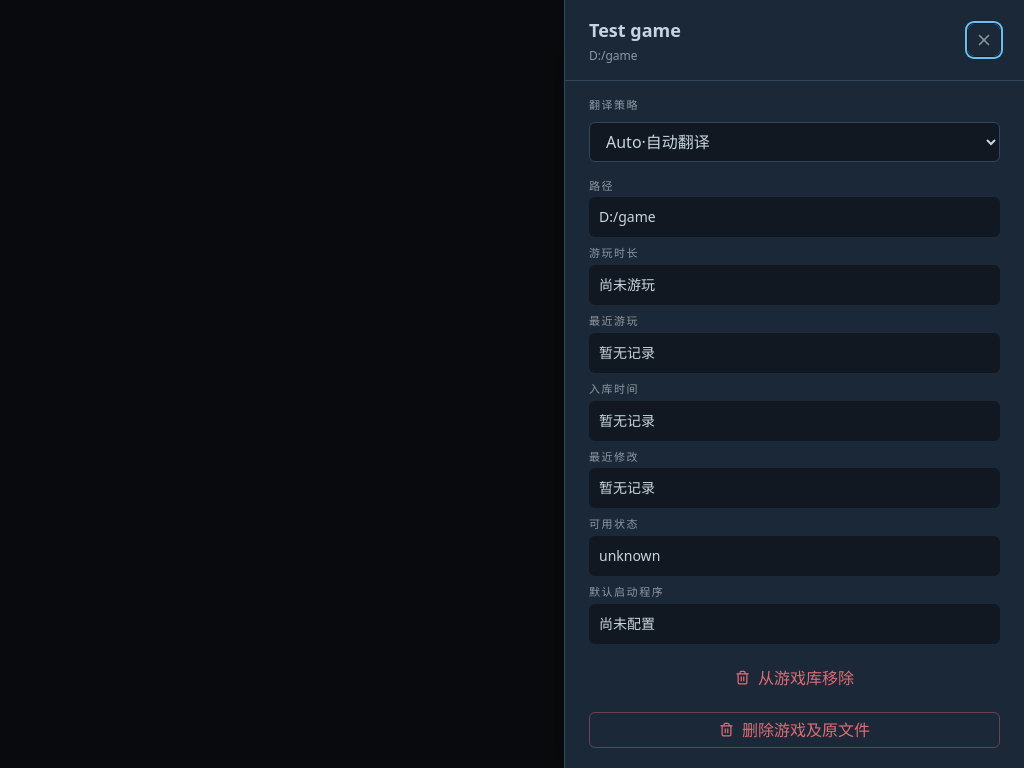
Scenario: does not offer an unverified EXE-only deletion when the Host has no removal plan
The image size is (1024, 768).
(page scrolled)
Step 1. Click the button "删除游戏及原文件" → (794, 730), box [589,712,1000,748]
(page scrolled)
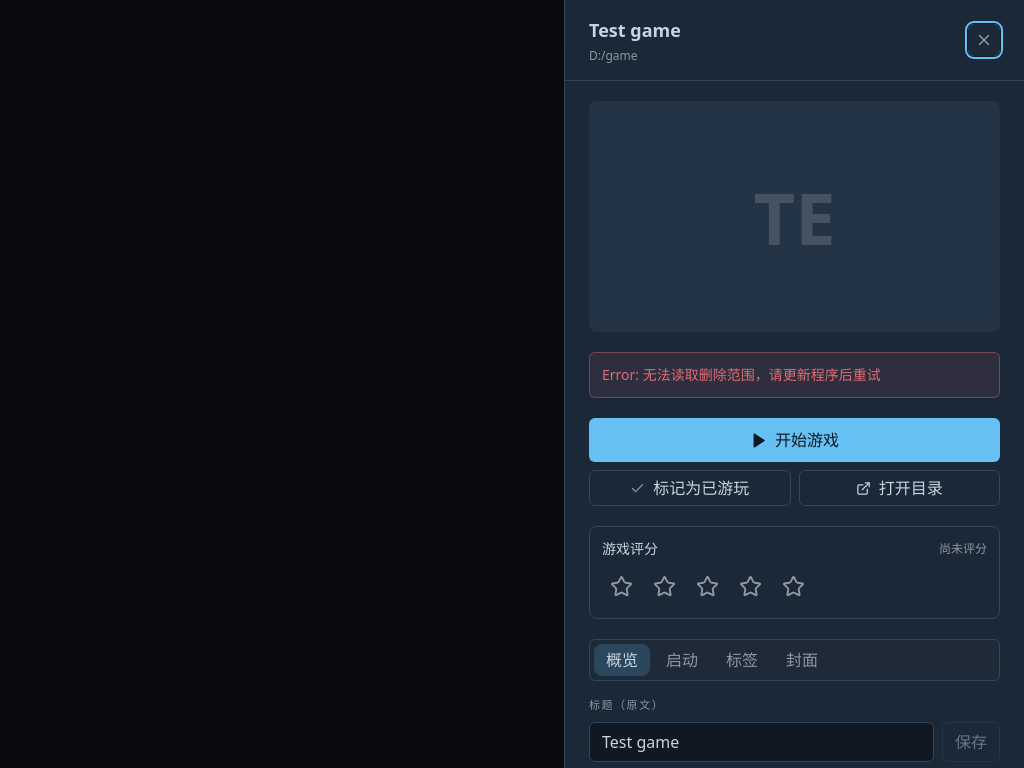
Now the text "Error: 无法读取删除范围，请更新程序后重试" is shown, box [589,352,1000,398]
